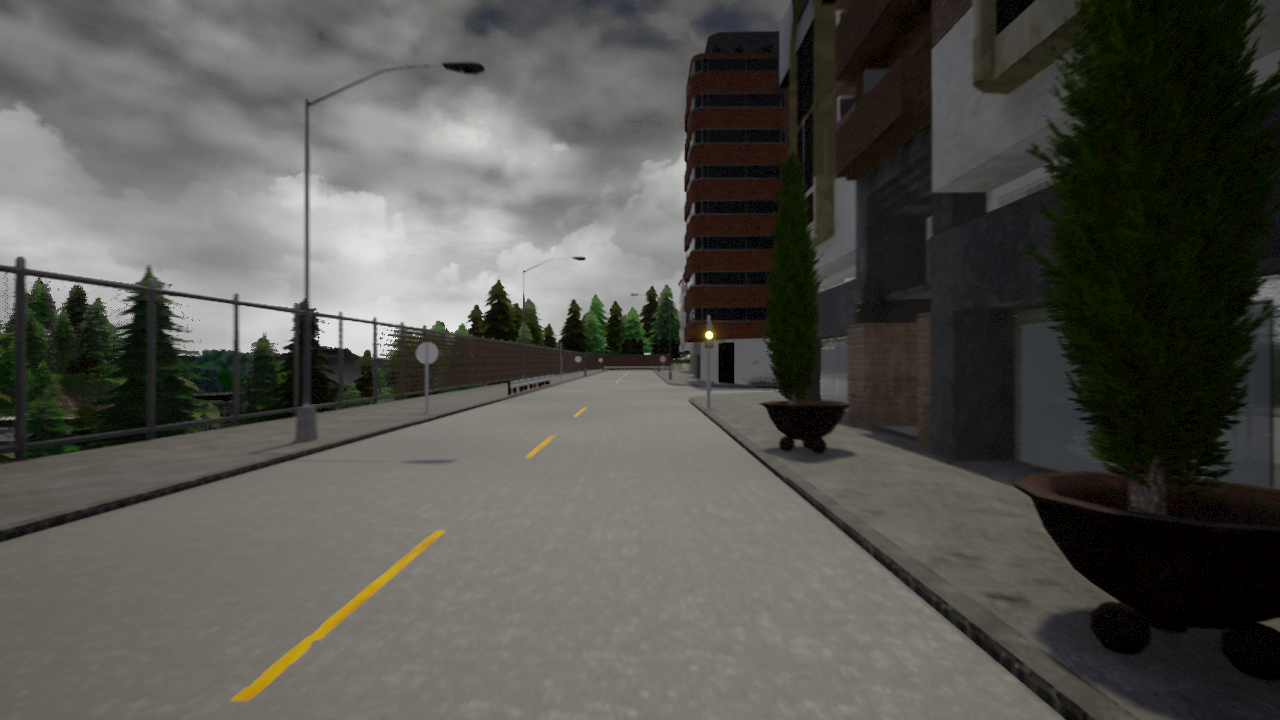yellow: (704, 320, 715, 350)
